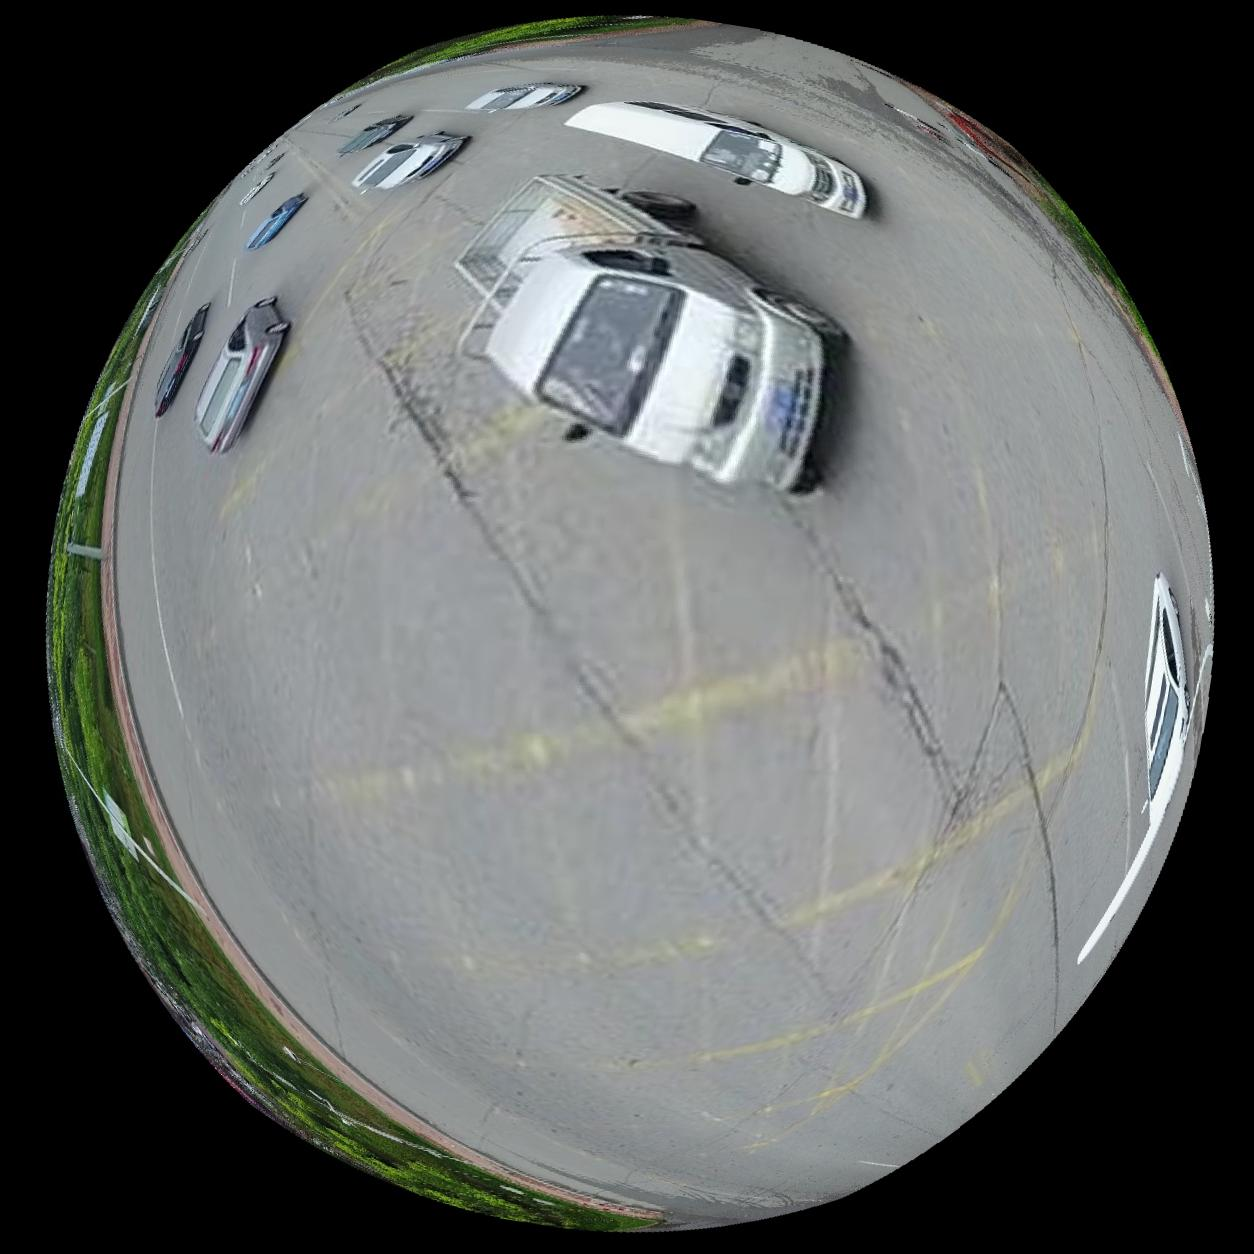cars: (455, 172, 847, 496), (566, 98, 868, 217), (194, 294, 289, 454), (1147, 573, 1194, 833), (351, 130, 468, 191), (153, 301, 209, 417), (245, 191, 306, 249), (466, 80, 583, 110)
trees: (47, 225, 659, 1232), (366, 13, 655, 80)
